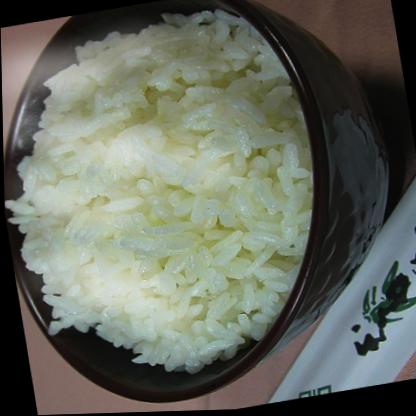rice ball: (0, 0, 349, 395)
